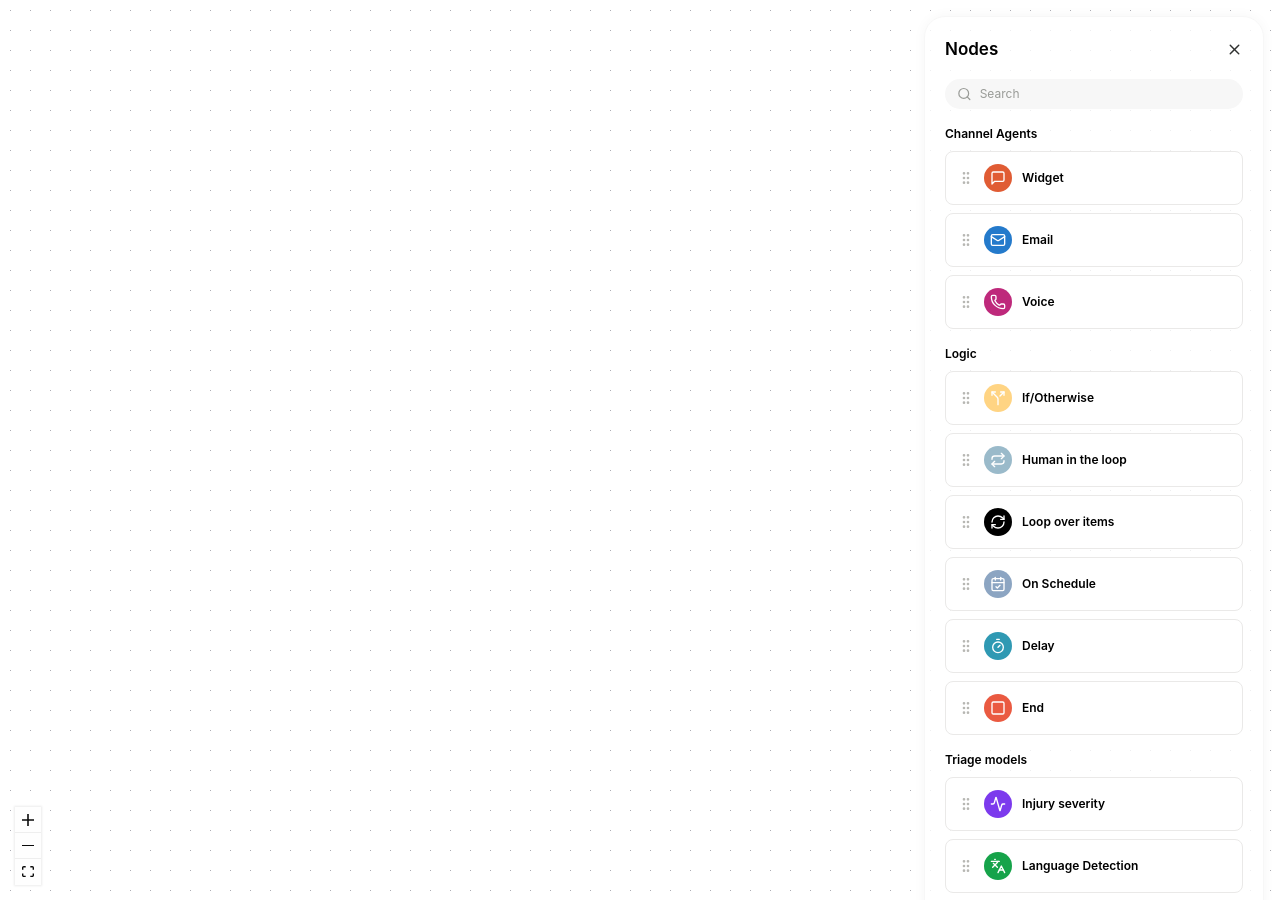
Test case: JourneyCanvas › can reopen the palette after closing
What coordinates should you click on to do the following:
click the button named "Close node palette"
I would click on:
 (1234, 50)
Its box is [1226,41,1243,58].
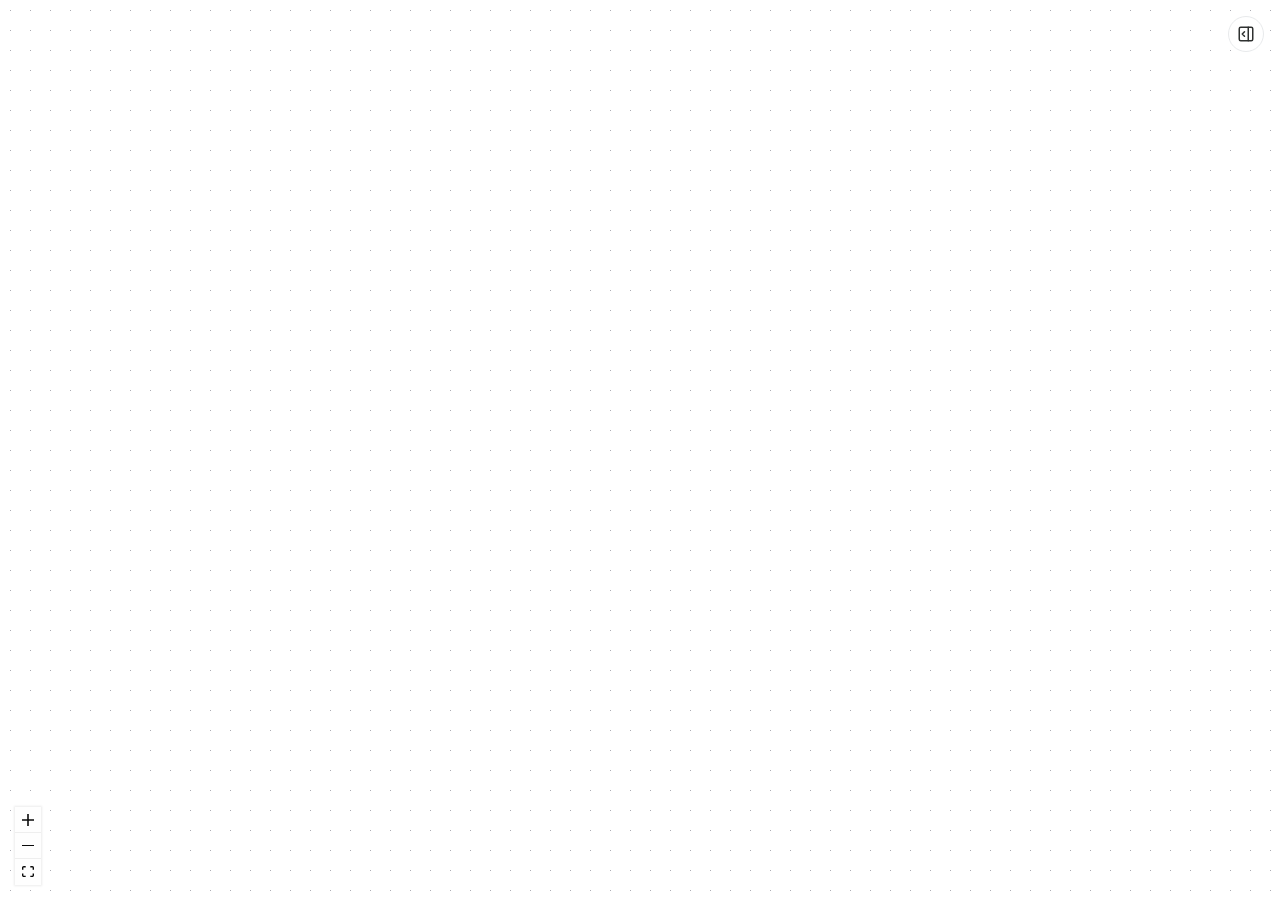
What coordinates should you click on to do the following:
click the button named "Open node palette"
I would click on:
 (1246, 34)
Its box is [1228,16,1264,52].
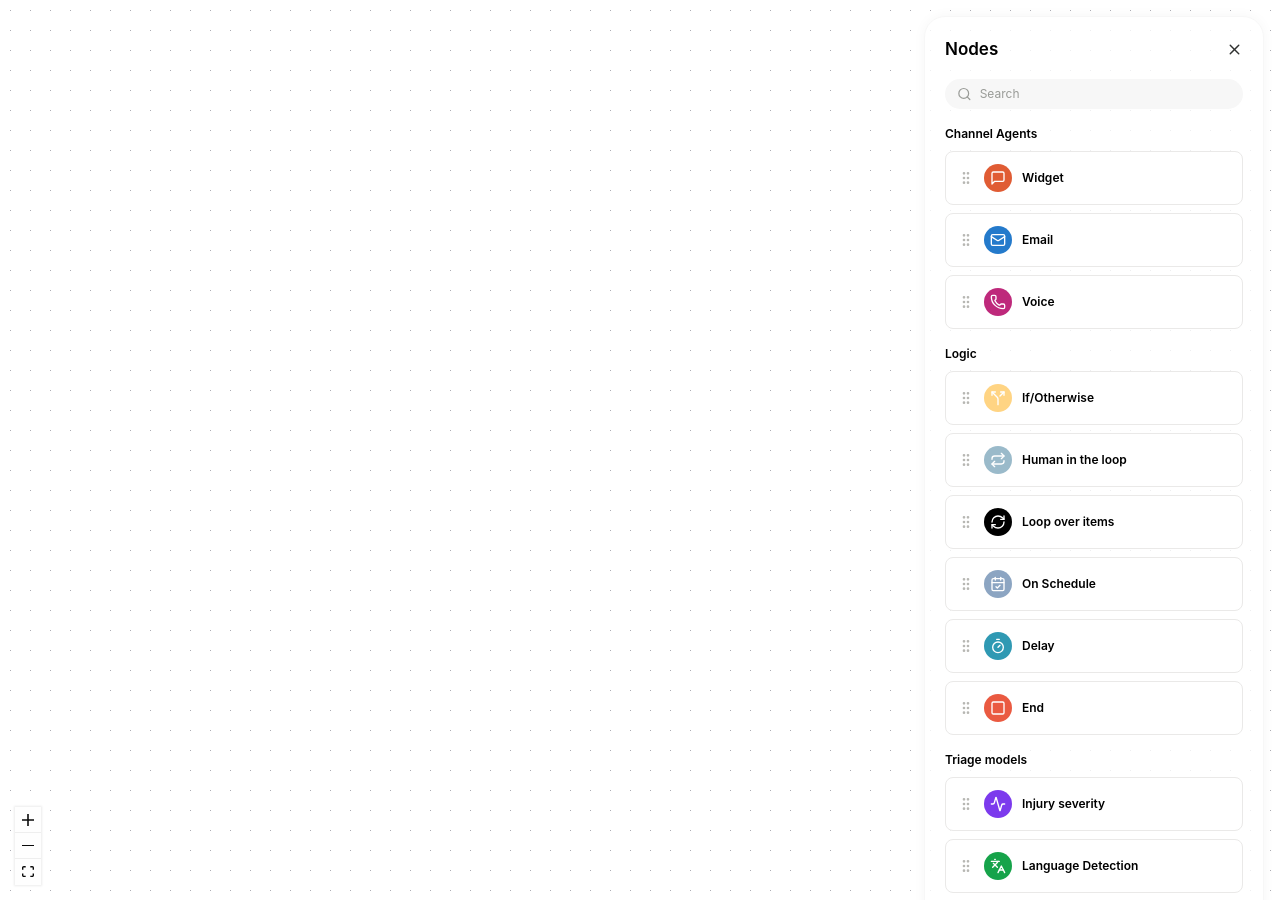
Check: the heading "Nodes" is shown, box [945,37,998,62]
